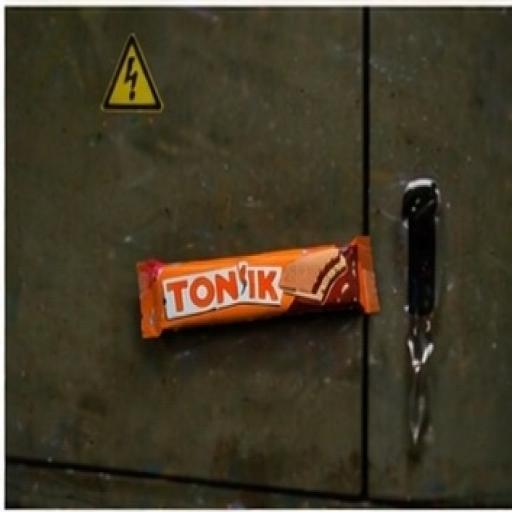tonik: (100, 167, 487, 457)
